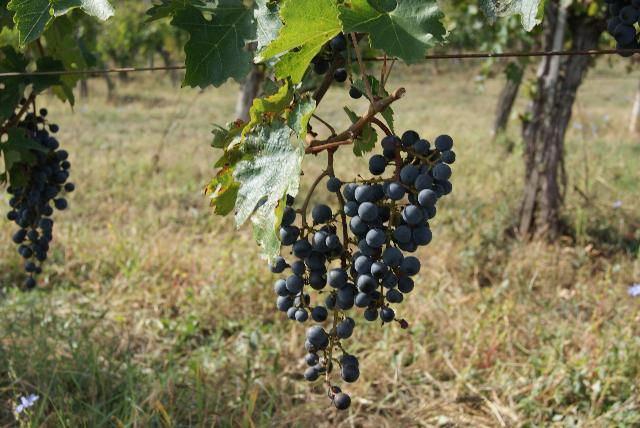grapes: (336, 131, 455, 322), (270, 190, 359, 410)
